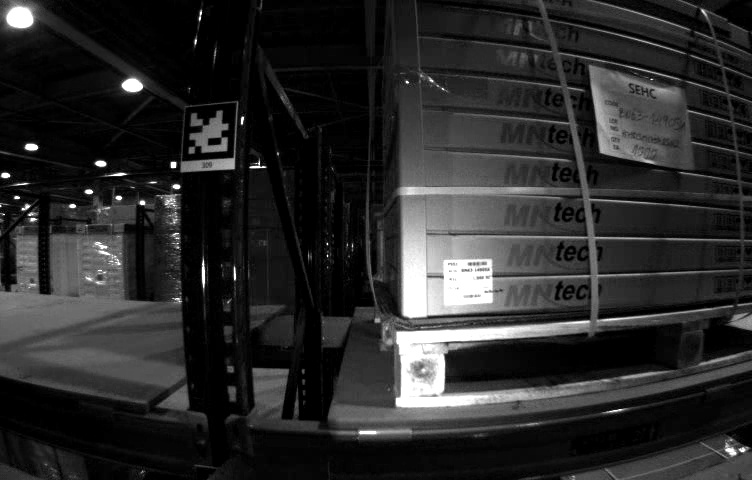True Barcode: (444, 259, 493, 305)
